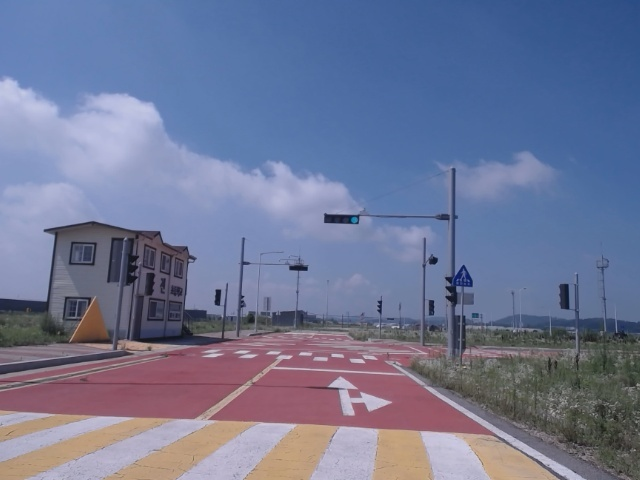straight_green_4: (324, 214, 359, 224)
